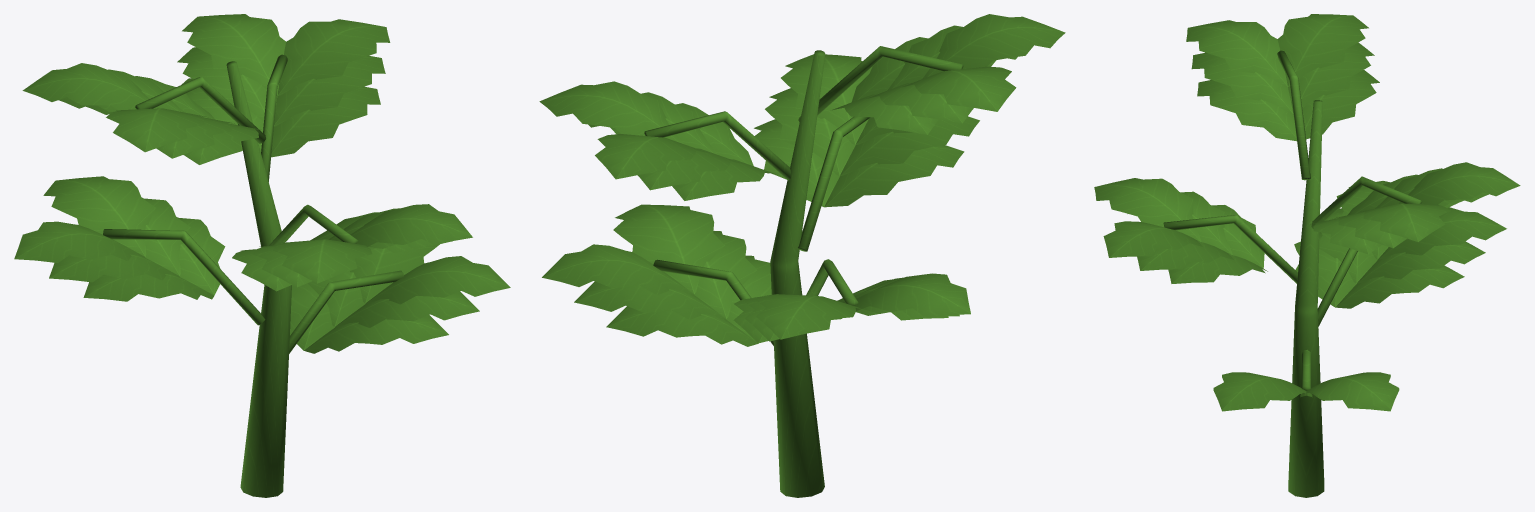
File: crop-tomato-growing.glb
3 views of the same model, side by side, from view 1: azimuth 30°, elevation 25°; view 2: azimuth 150°, elevation 25°; view 3: azimuth 270°, elevation 25° (orthographic). The views are drawn at different scales.
Visible parts, largest first — view 1: crop_tomato_growing; view 2: crop_tomato_growing; view 3: crop_tomato_growing.
Boxes of the visible parts, x1,y1,x2,y2 form: crop_tomato_growing: [14, 14, 510, 497]; crop_tomato_growing: [539, 14, 1065, 497]; crop_tomato_growing: [1094, 14, 1520, 497].
Size of the model in its own units: 0.3569 by 0.3655 by 0.3588.
1 material, 1 textured.
